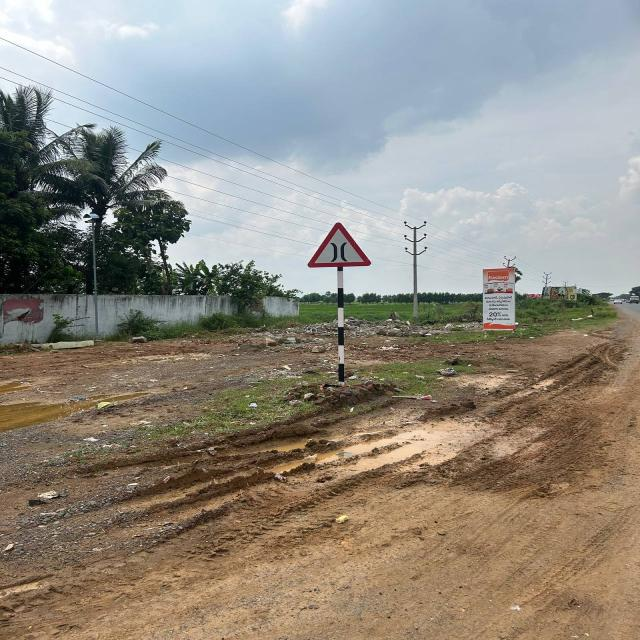Narrow_Bridge: (308, 222, 371, 268)
